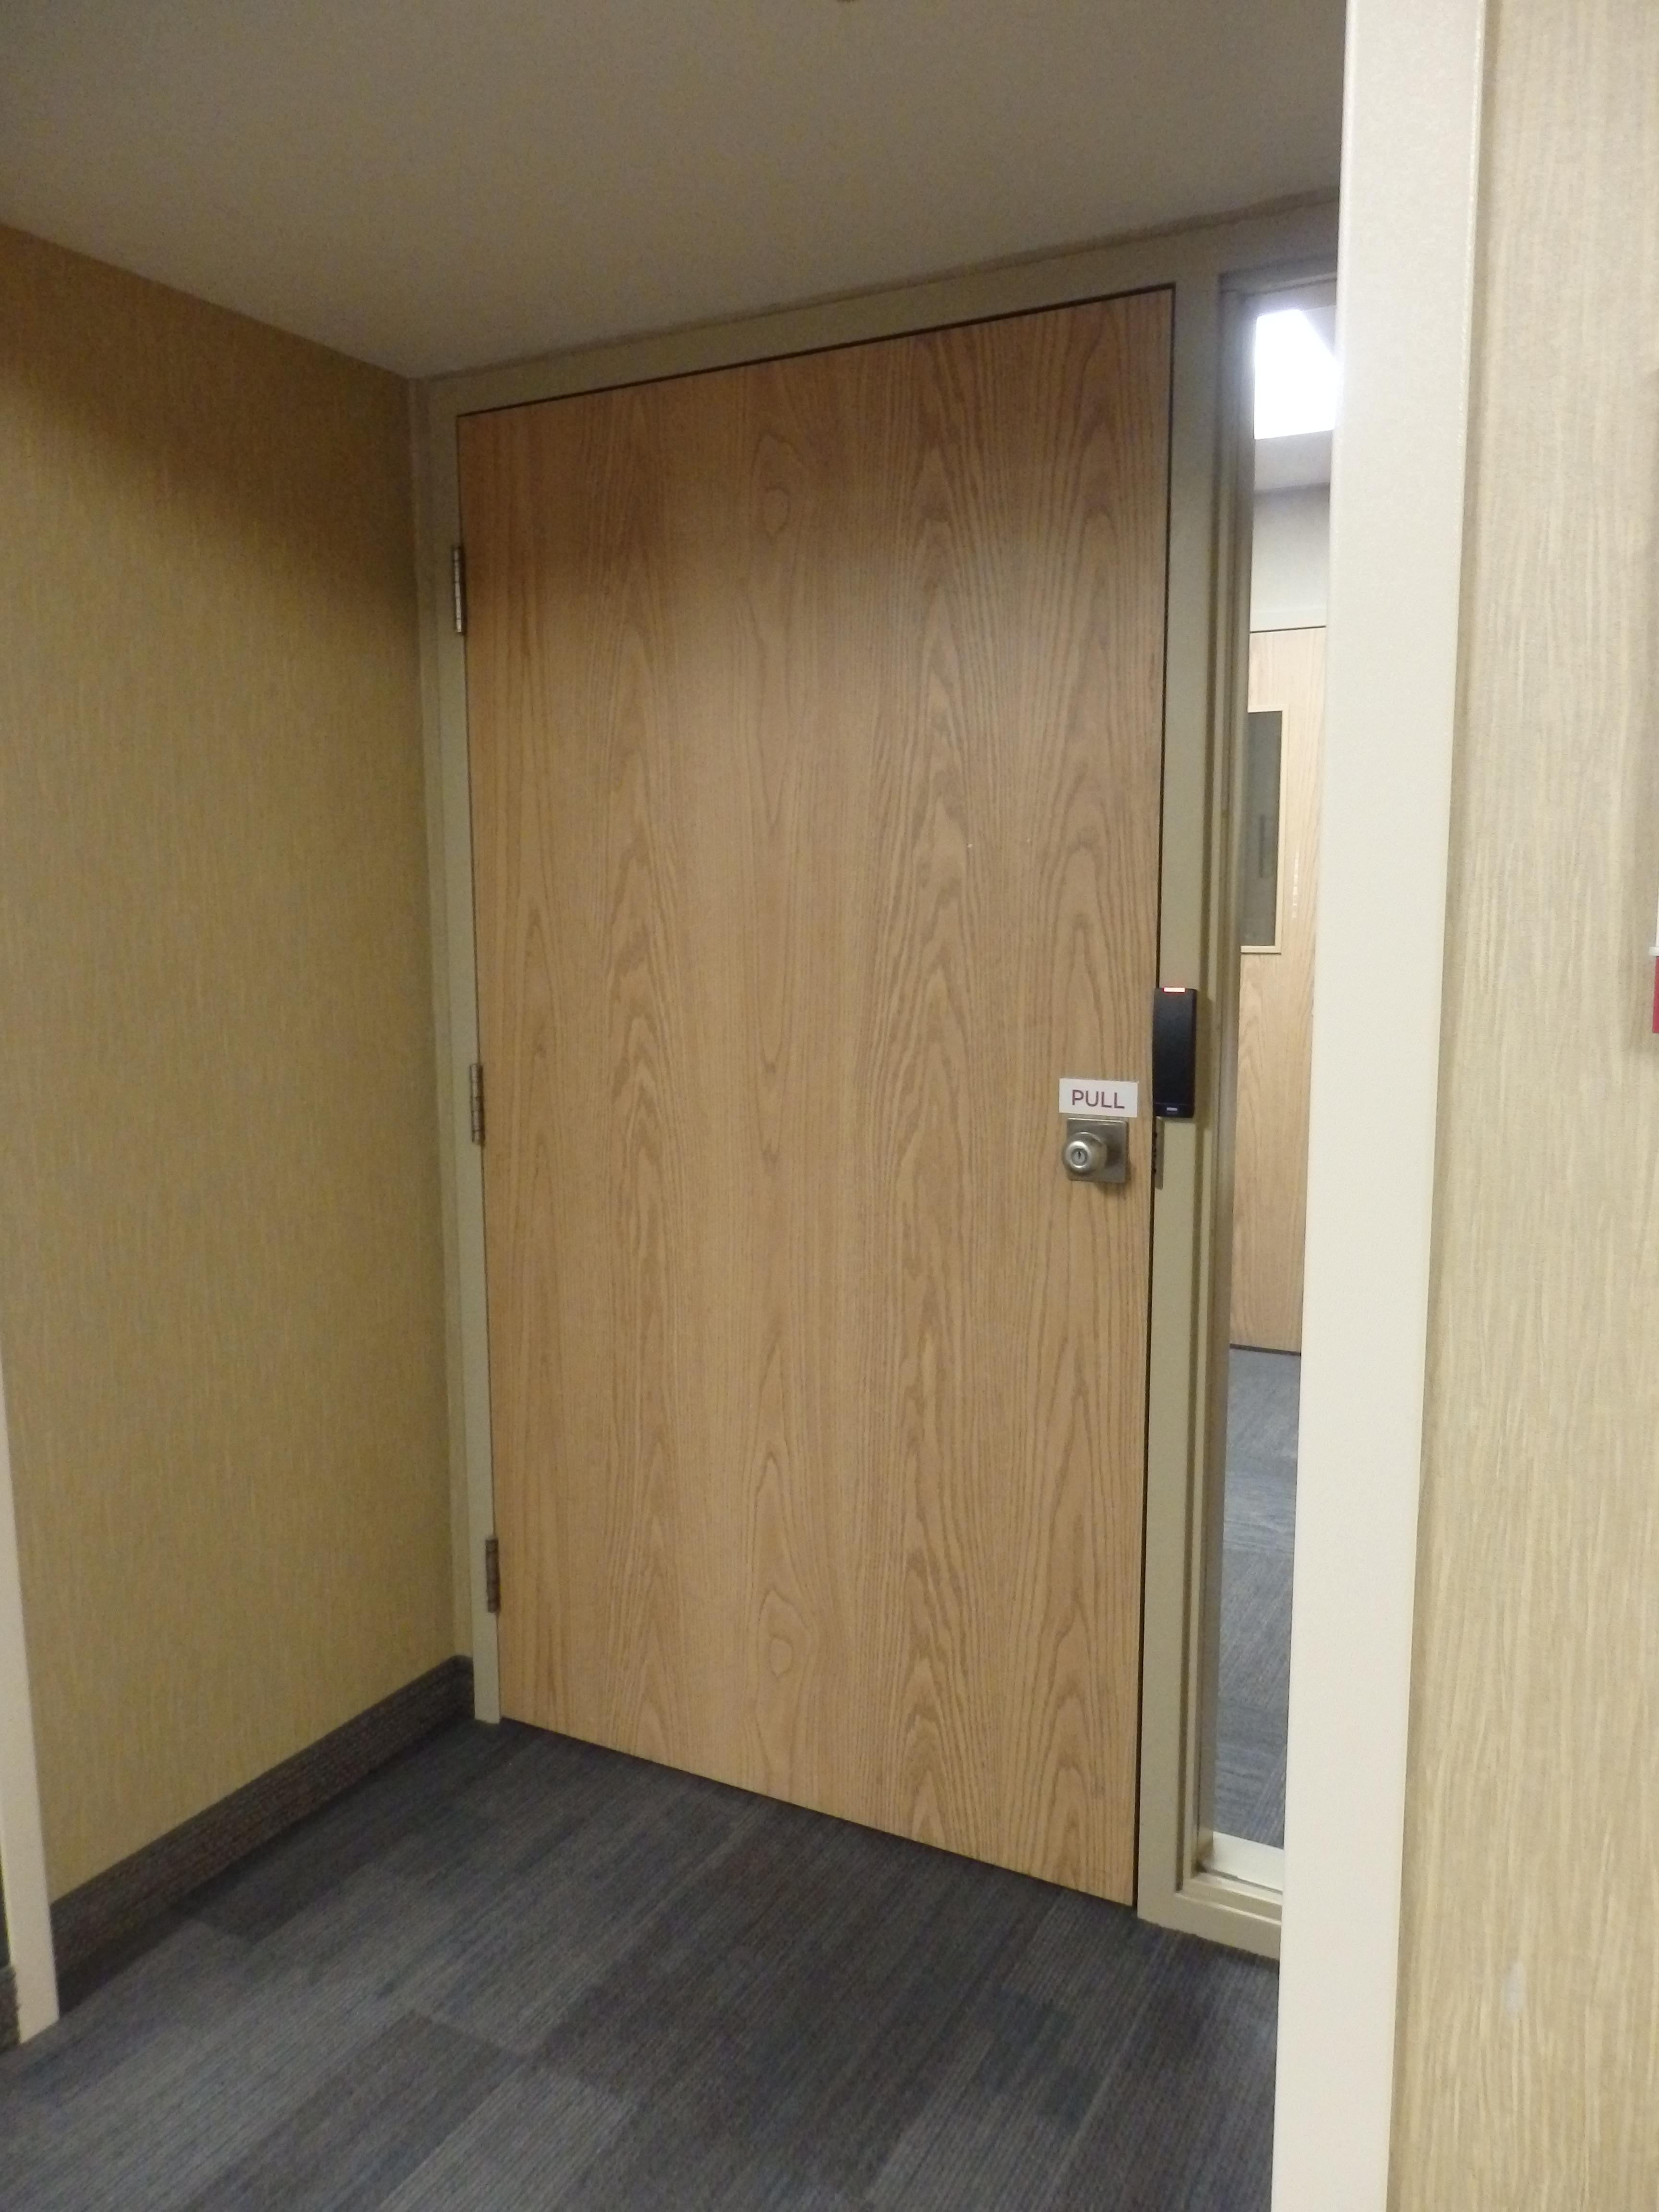door: (422, 218, 1232, 1939)
